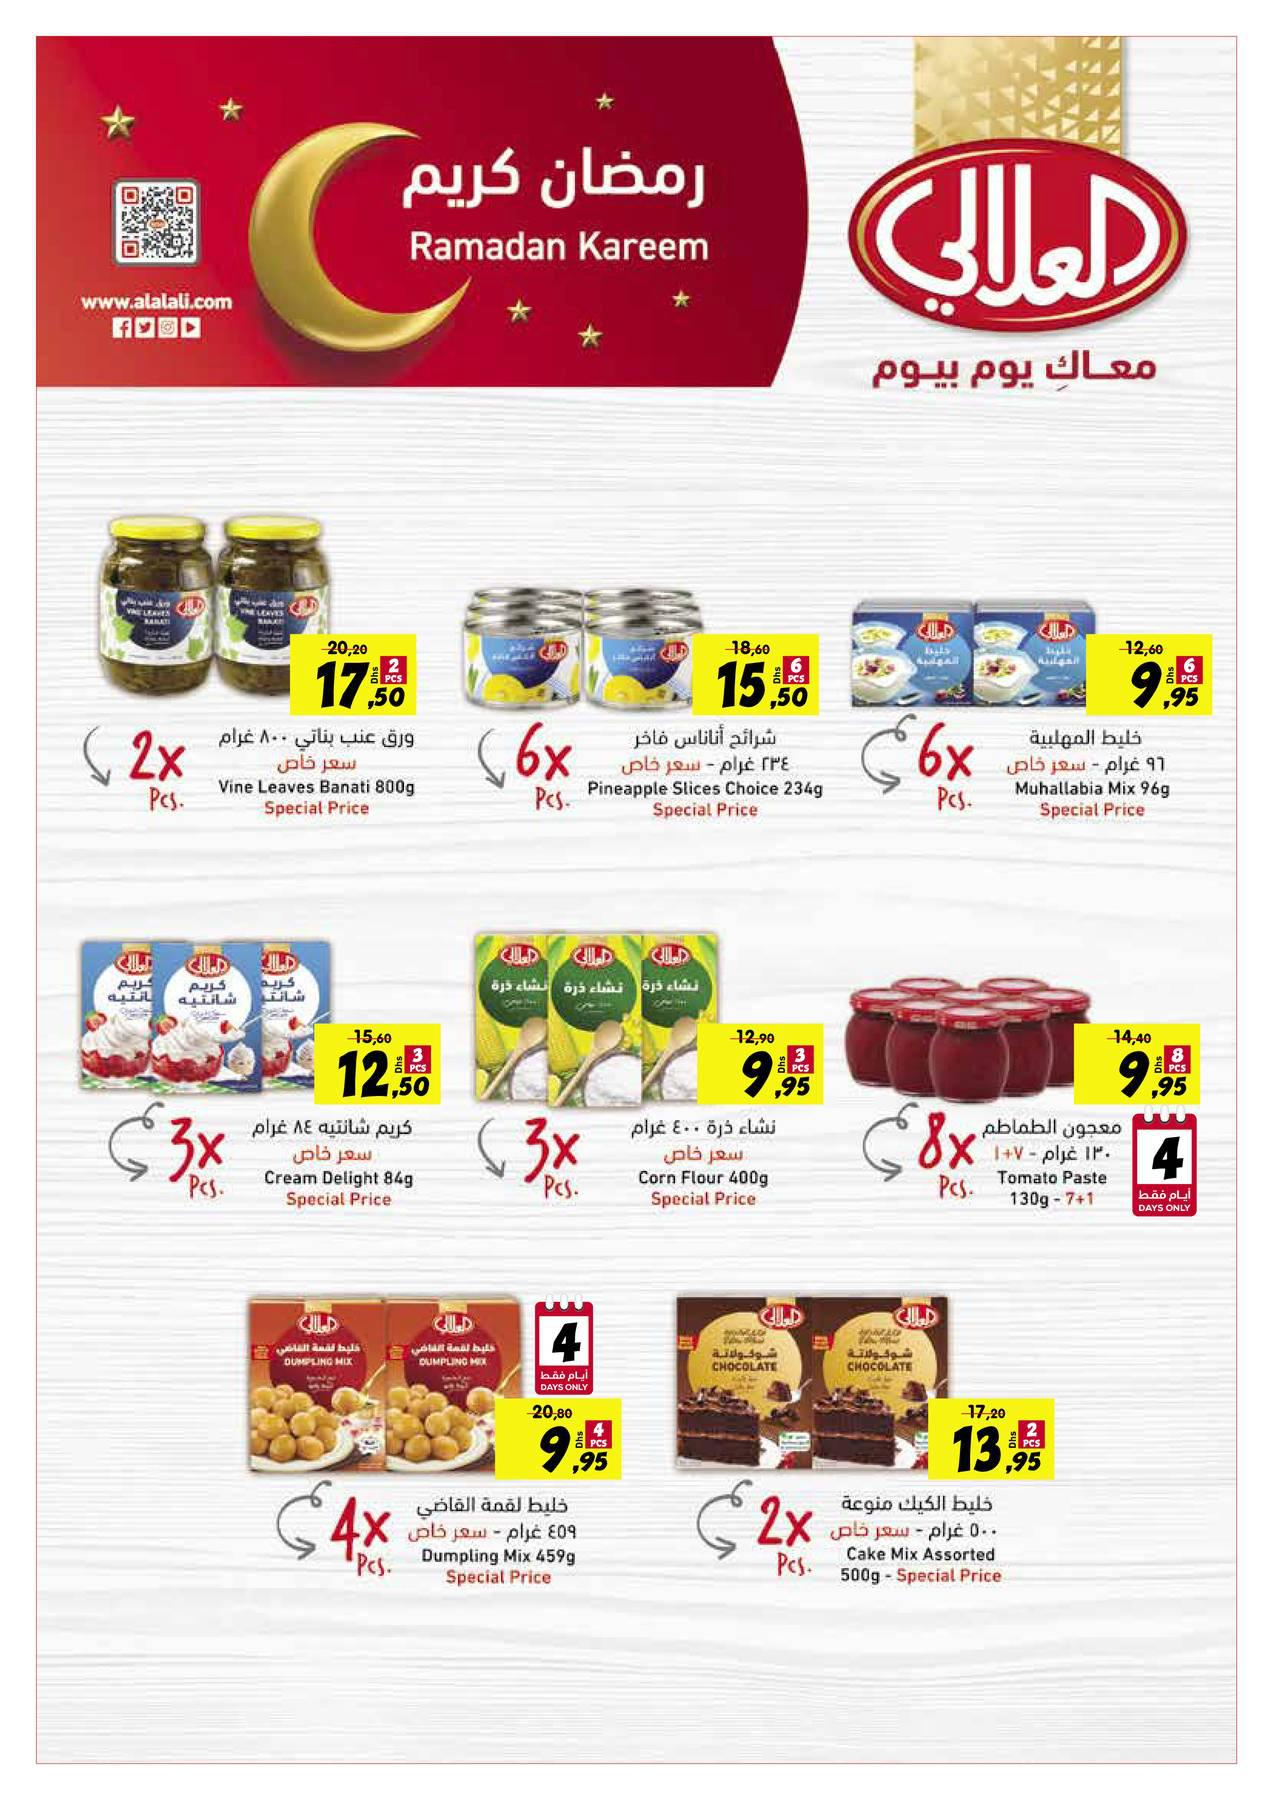text: (580, 771, 829, 826), (207, 723, 433, 781), (820, 1540, 1035, 1598), (404, 1541, 612, 1600), (821, 1487, 1026, 1545), (603, 723, 811, 779), (236, 1111, 433, 1171), (395, 1490, 599, 1545), (207, 775, 441, 821), (997, 724, 1185, 779), (612, 1113, 792, 1168), (248, 1165, 439, 1216), (1003, 775, 1177, 826), (620, 1168, 799, 1216), (980, 1114, 1126, 1166), (982, 1165, 1124, 1212)
